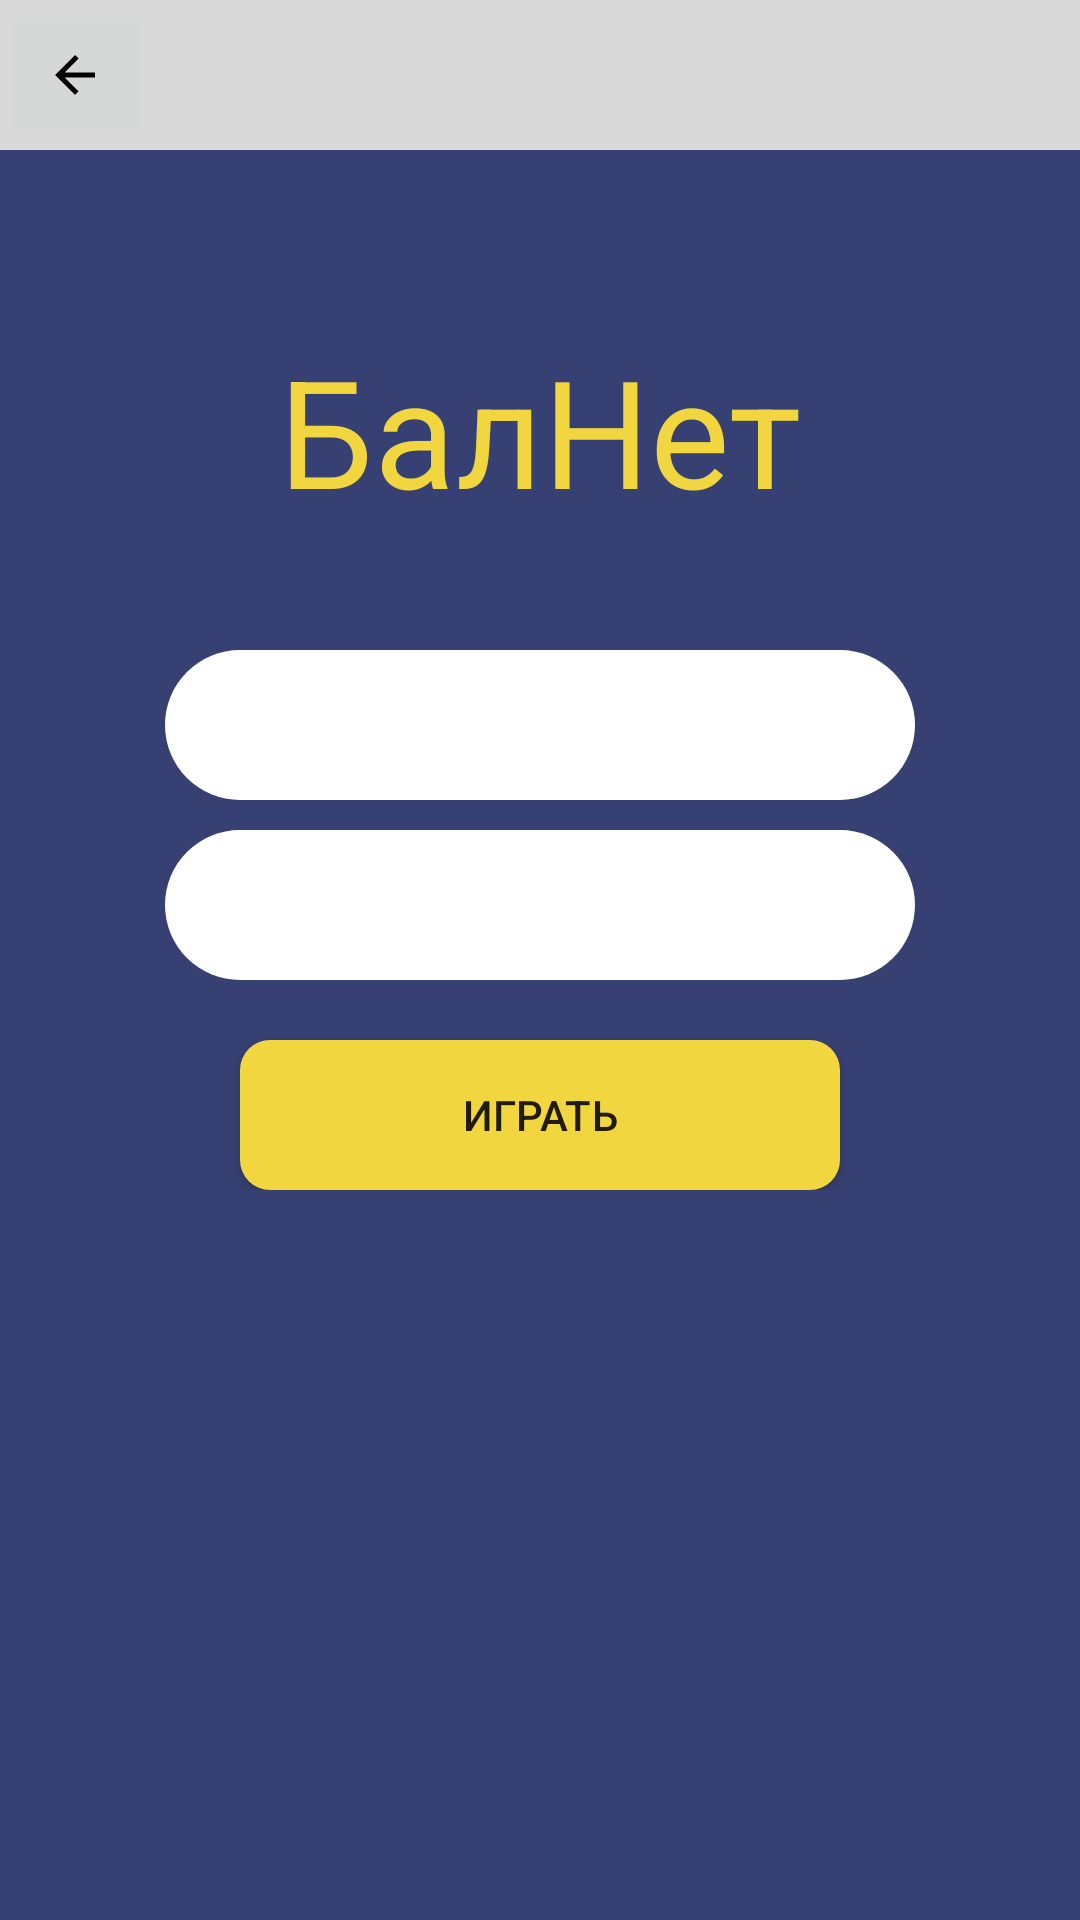

Point at icon controls on the screen. Image size 1080×1920, points as [x,y].
arrow back: [75,75]
